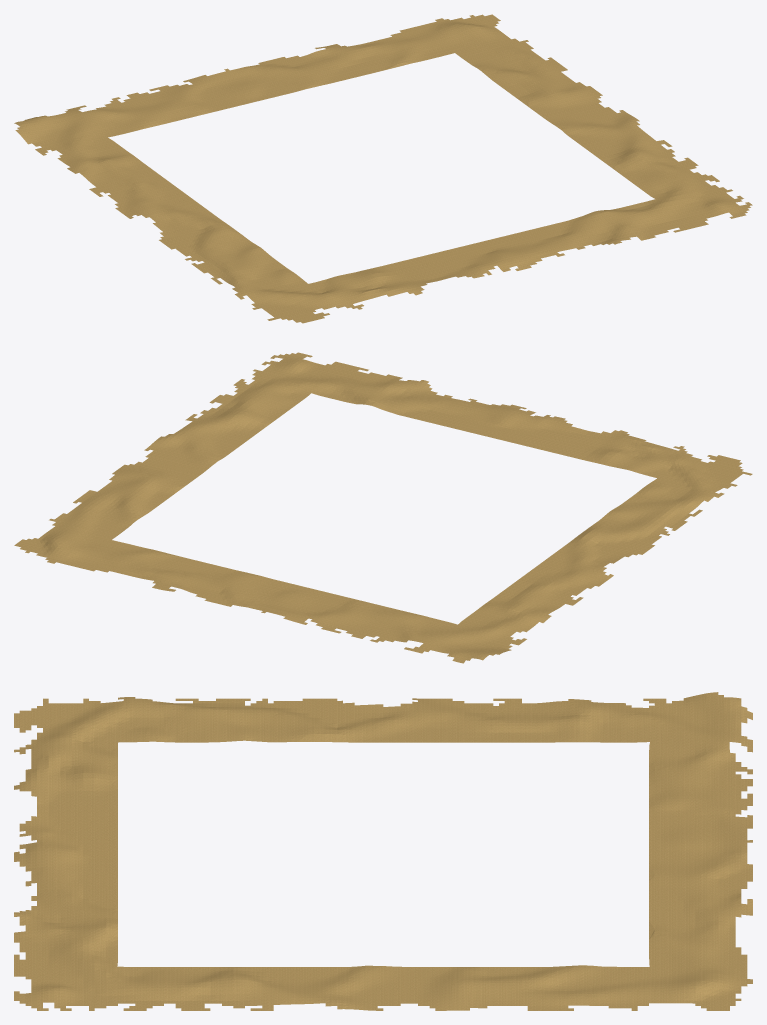
Rendered from sandLevelNoHoles.obj.
The picture shows the model from 3 angles, top to bottom: view 1: azimuth 30°, elevation 25°; view 2: azimuth 150°, elevation 25°; view 3: azimuth 270°, elevation 25°; orthographic projection. The views are drawn at different scales.
Parts seen in each view (by area): view 1: Plane_Plane.004; view 2: Plane_Plane.004; view 3: Plane_Plane.004.
Boxes of the visible parts, <box> form: Plane_Plane.004: <box>14,14,752,323</box>; Plane_Plane.004: <box>14,352,752,663</box>; Plane_Plane.004: <box>14,692,752,1010</box>.
Size of the model in its own units: 814 by 8.3 by 814.
